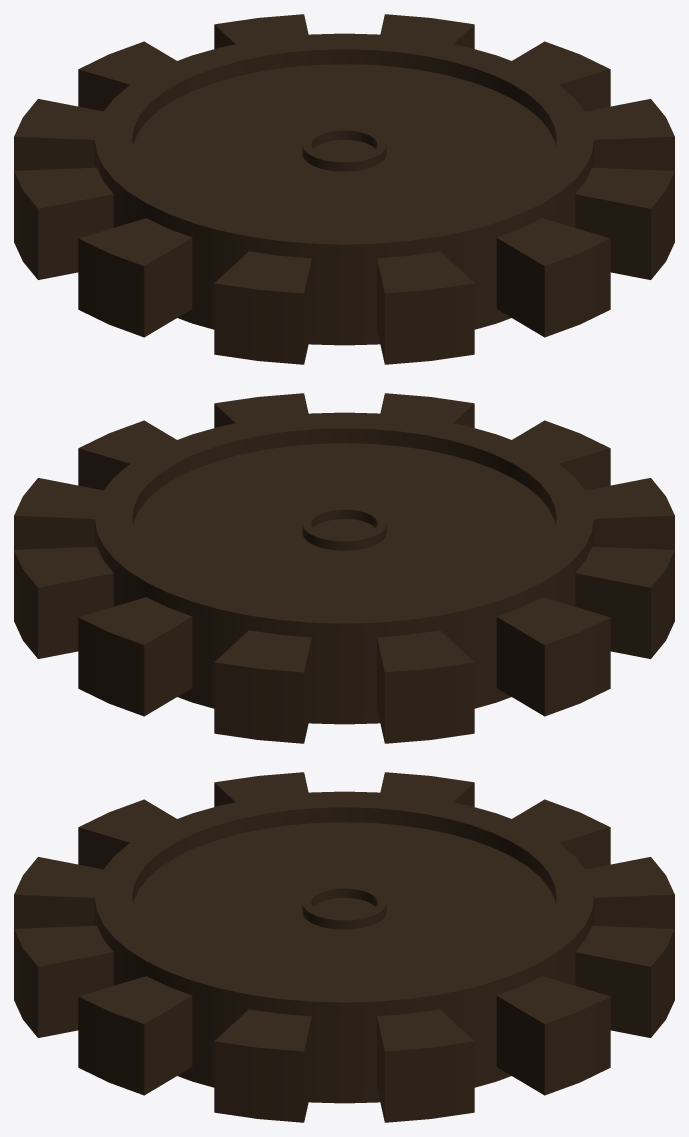
File: Gear Kayu.fbx
3 views of the same model, one above another, from view 1: azimuth 30°, elevation 25°; view 2: azimuth 150°, elevation 25°; view 3: azimuth 270°, elevation 25° (orthographic).
Parts seen in each view (by area): view 1: Gear Kayu; view 2: Gear Kayu; view 3: Gear Kayu.
Part boxes in pixels (x1,y1,x2,y2): Gear Kayu: (14,14,674,364); Gear Kayu: (14,393,674,743); Gear Kayu: (14,772,674,1122).
Bounding box in the file's own units: 11 × 1.85 × 11.
